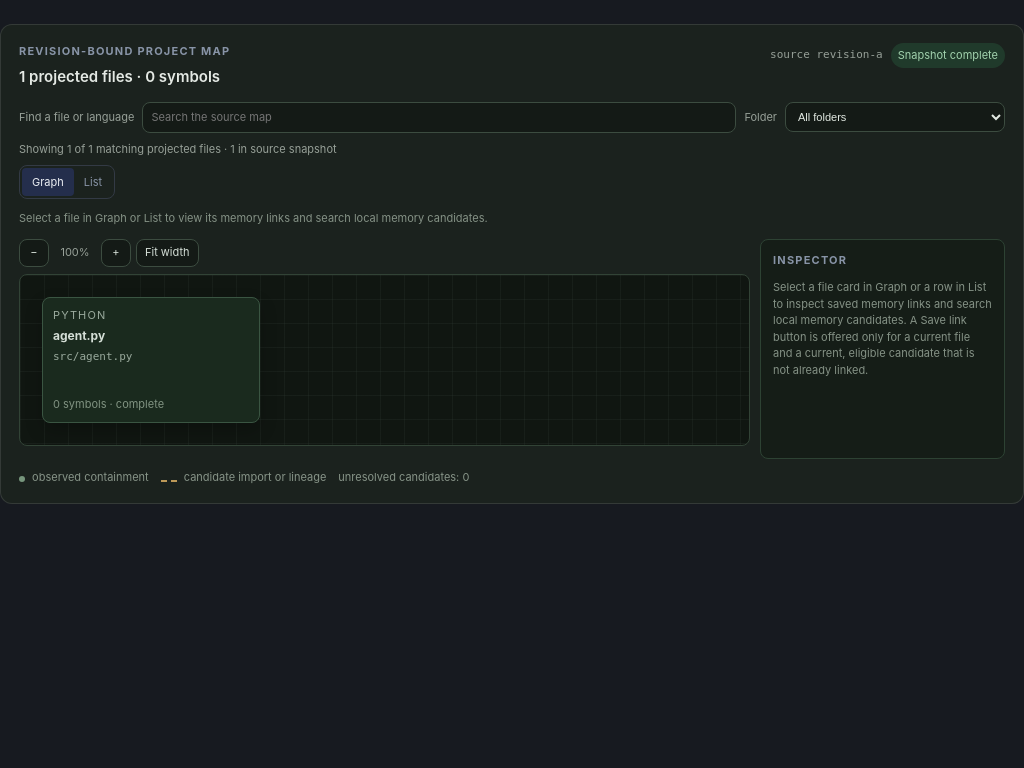
Test: workspace graph memory search candidates › distinguishes an empty manual memory search from an empty path search
This screenshot has width=1024, height=768.
Click the button "Python agent.py src/agent.py 0 symbols · complete" at (151, 360), box left=42, top=296, right=260, bottom=422
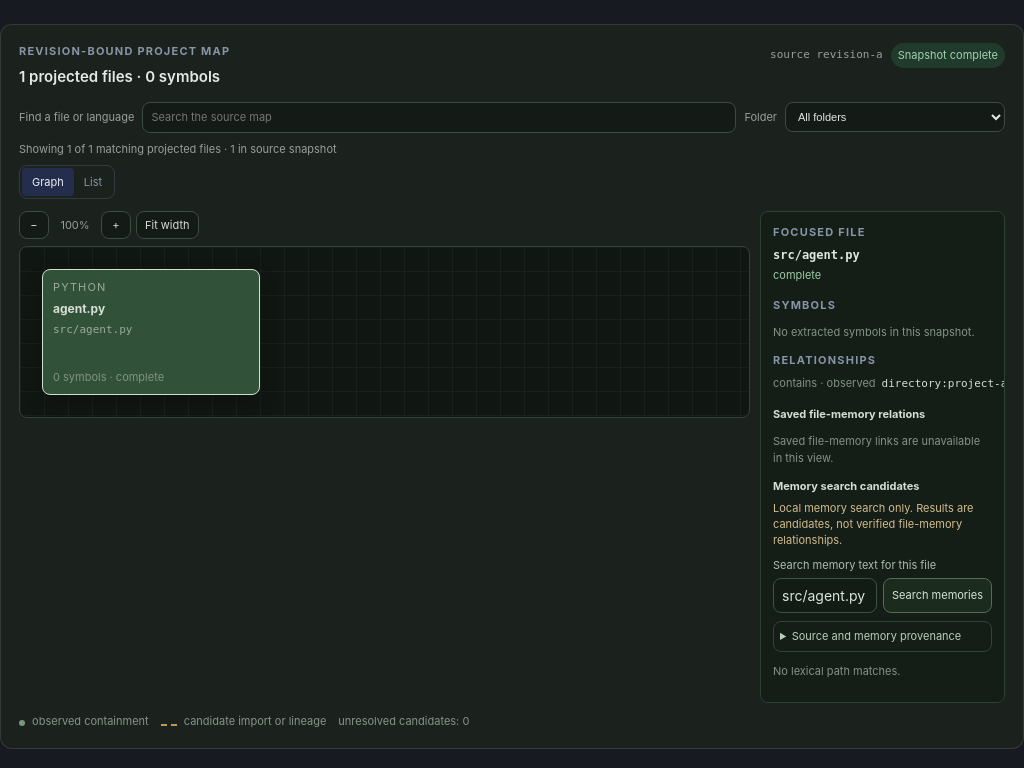
Expected: the text "No lexical path matches." is shown, left=773, top=664, right=900, bottom=678
Replace the text in the field labelled "Search memory text for this file" with "no matching memory text" at (825, 596), box left=773, top=578, right=877, bottom=613
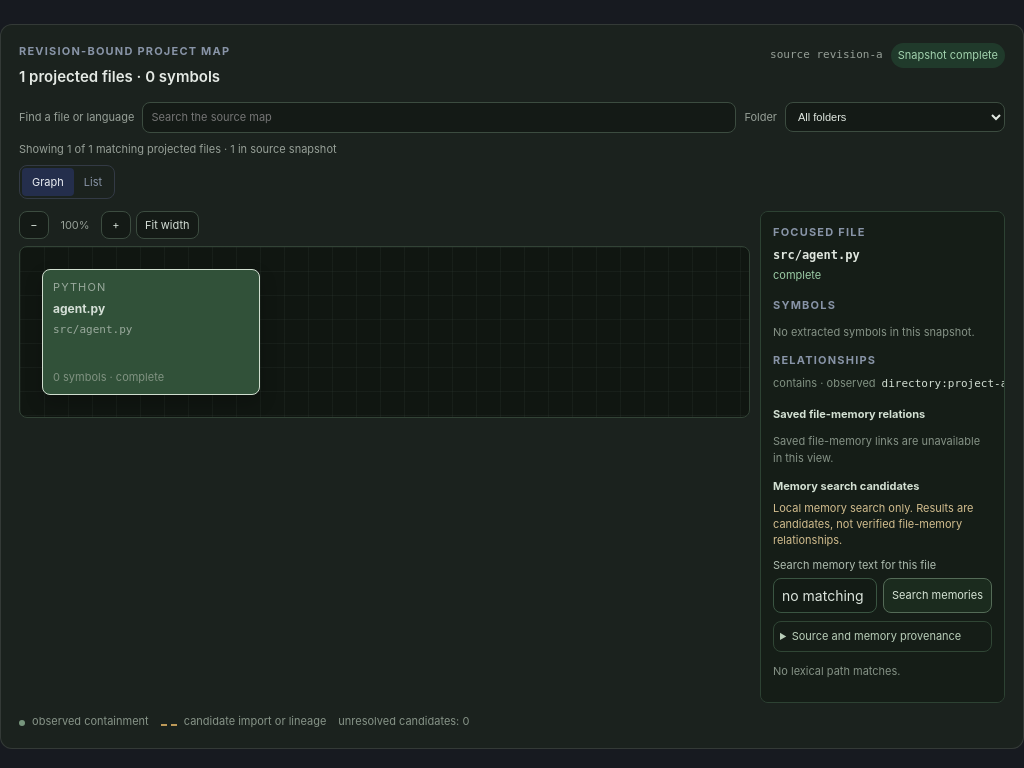
Click the button "Search memories" at (938, 596), box left=883, top=578, right=992, bottom=613
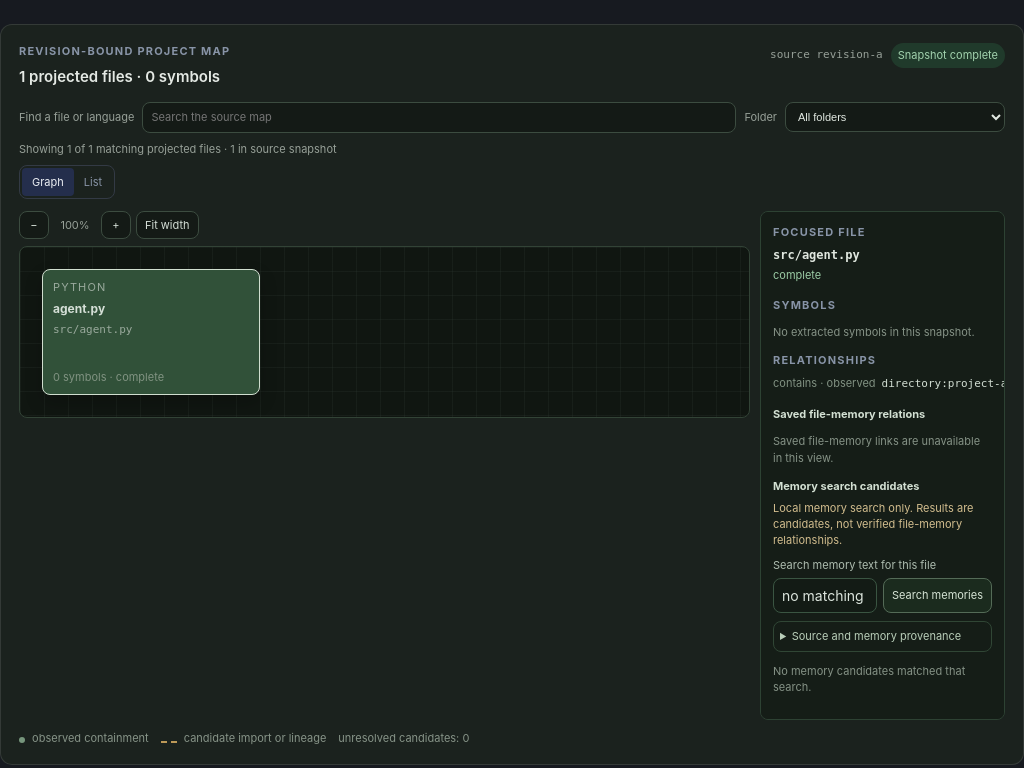
Expected: the text "No memory candidates matched that search." is shown, left=773, top=663, right=992, bottom=696
Expected: the text "No lexical path matches." is gone
